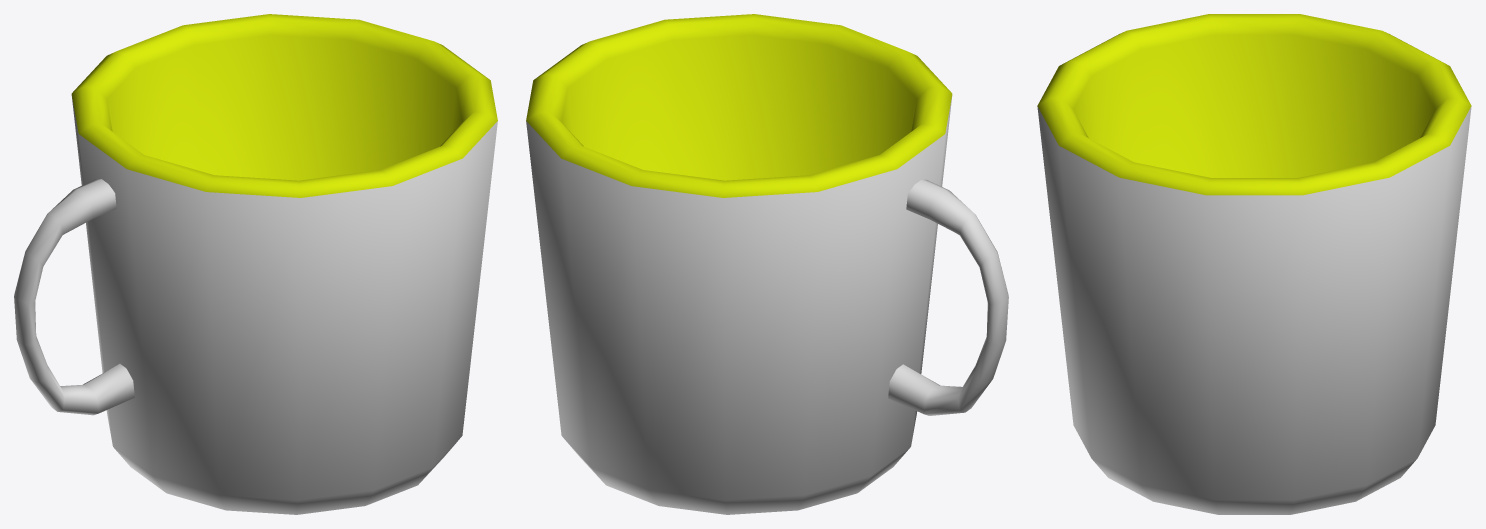
The model's file is Yellow_mug.fbx.
3 views of the same model, side by side, from view 1: azimuth 30°, elevation 25°; view 2: azimuth 150°, elevation 25°; view 3: azimuth 270°, elevation 25° (orthographic).
Visible parts, largest first — view 1: Yellow_mug; view 2: Yellow_mug; view 3: Yellow_mug.
Part boxes in pixels (bbox=[...]): Yellow_mug: bbox=[14, 14, 497, 514]; Yellow_mug: bbox=[526, 14, 1008, 514]; Yellow_mug: bbox=[1037, 14, 1471, 514].
Bounding box in the file's own units: 0.0338 × 0.0249 × 0.0281.
Materials: 1 (1 with a texture image).
